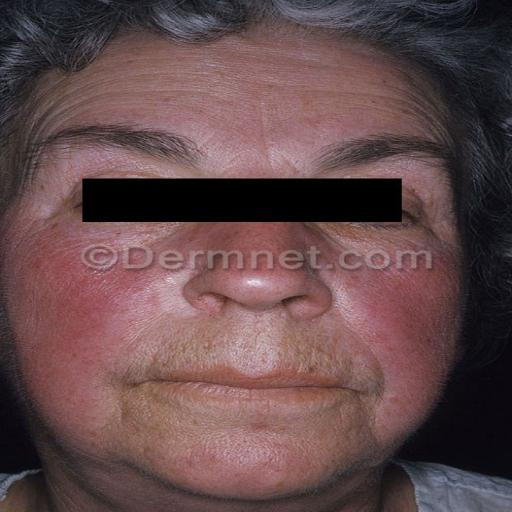Skin_Lesion: (362, 271, 435, 317), (47, 253, 102, 284)
